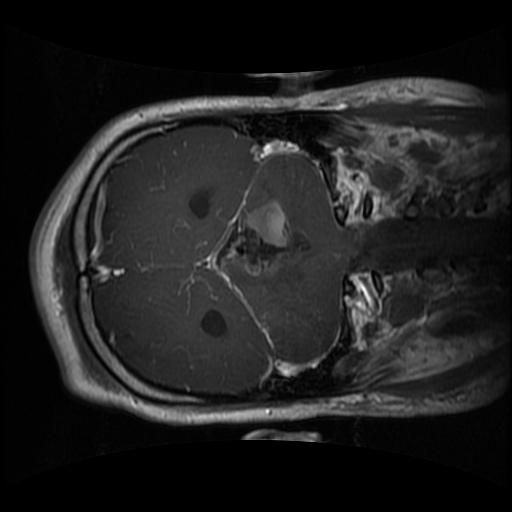glioma: (216, 197, 312, 279)
